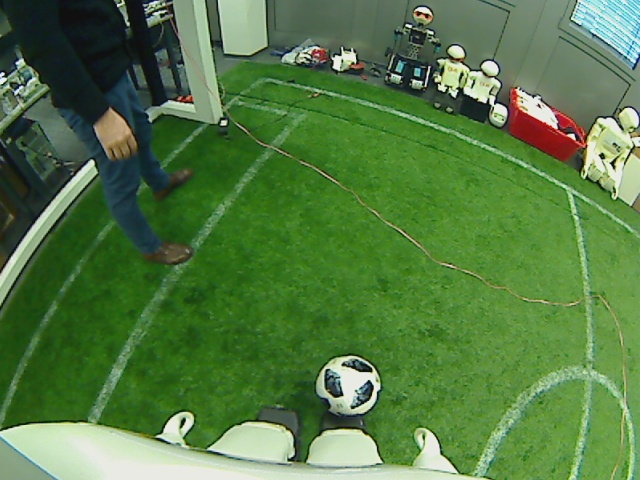ball: (314, 353, 380, 417)
